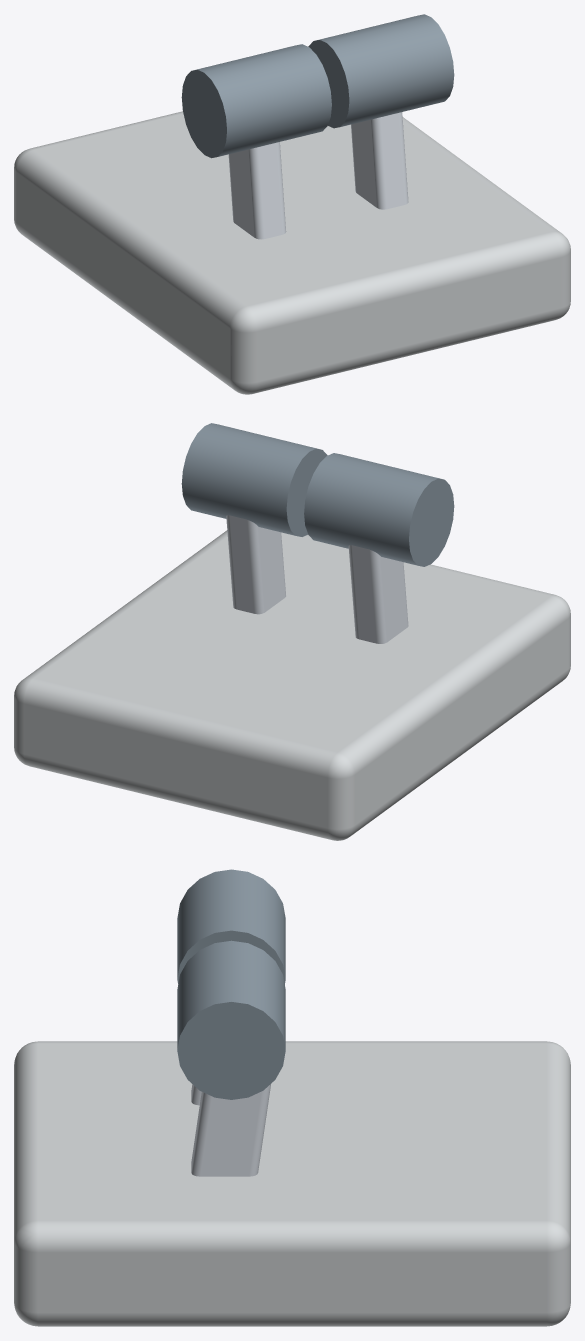
Rendered from atelier-gaming-throttle-arctic.glb.
3 renders of one model, top to bottom at view 1: azimuth 30°, elevation 25°; view 2: azimuth 150°, elevation 25°; view 3: azimuth 270°, elevation 25°, orthographic. The views are drawn at different scales.
Size of the model in its own units: 0.155 by 0.11 by 0.185.
